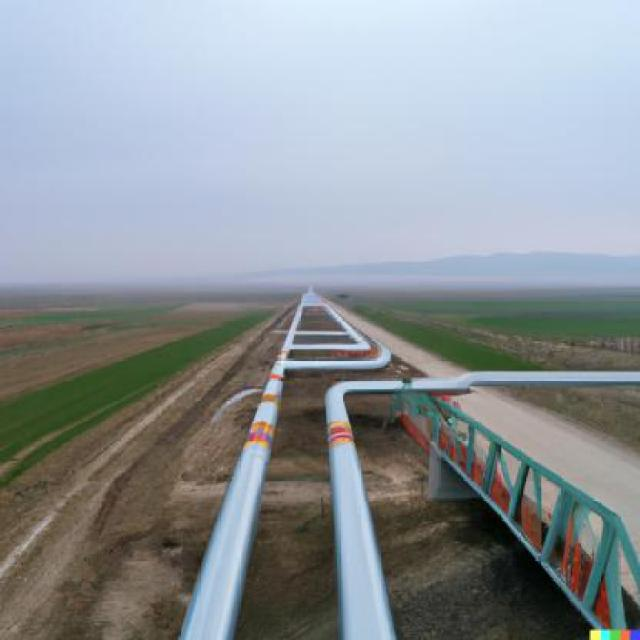gas: (172, 352, 303, 640), (320, 380, 403, 640), (334, 368, 640, 392), (277, 356, 395, 372)
